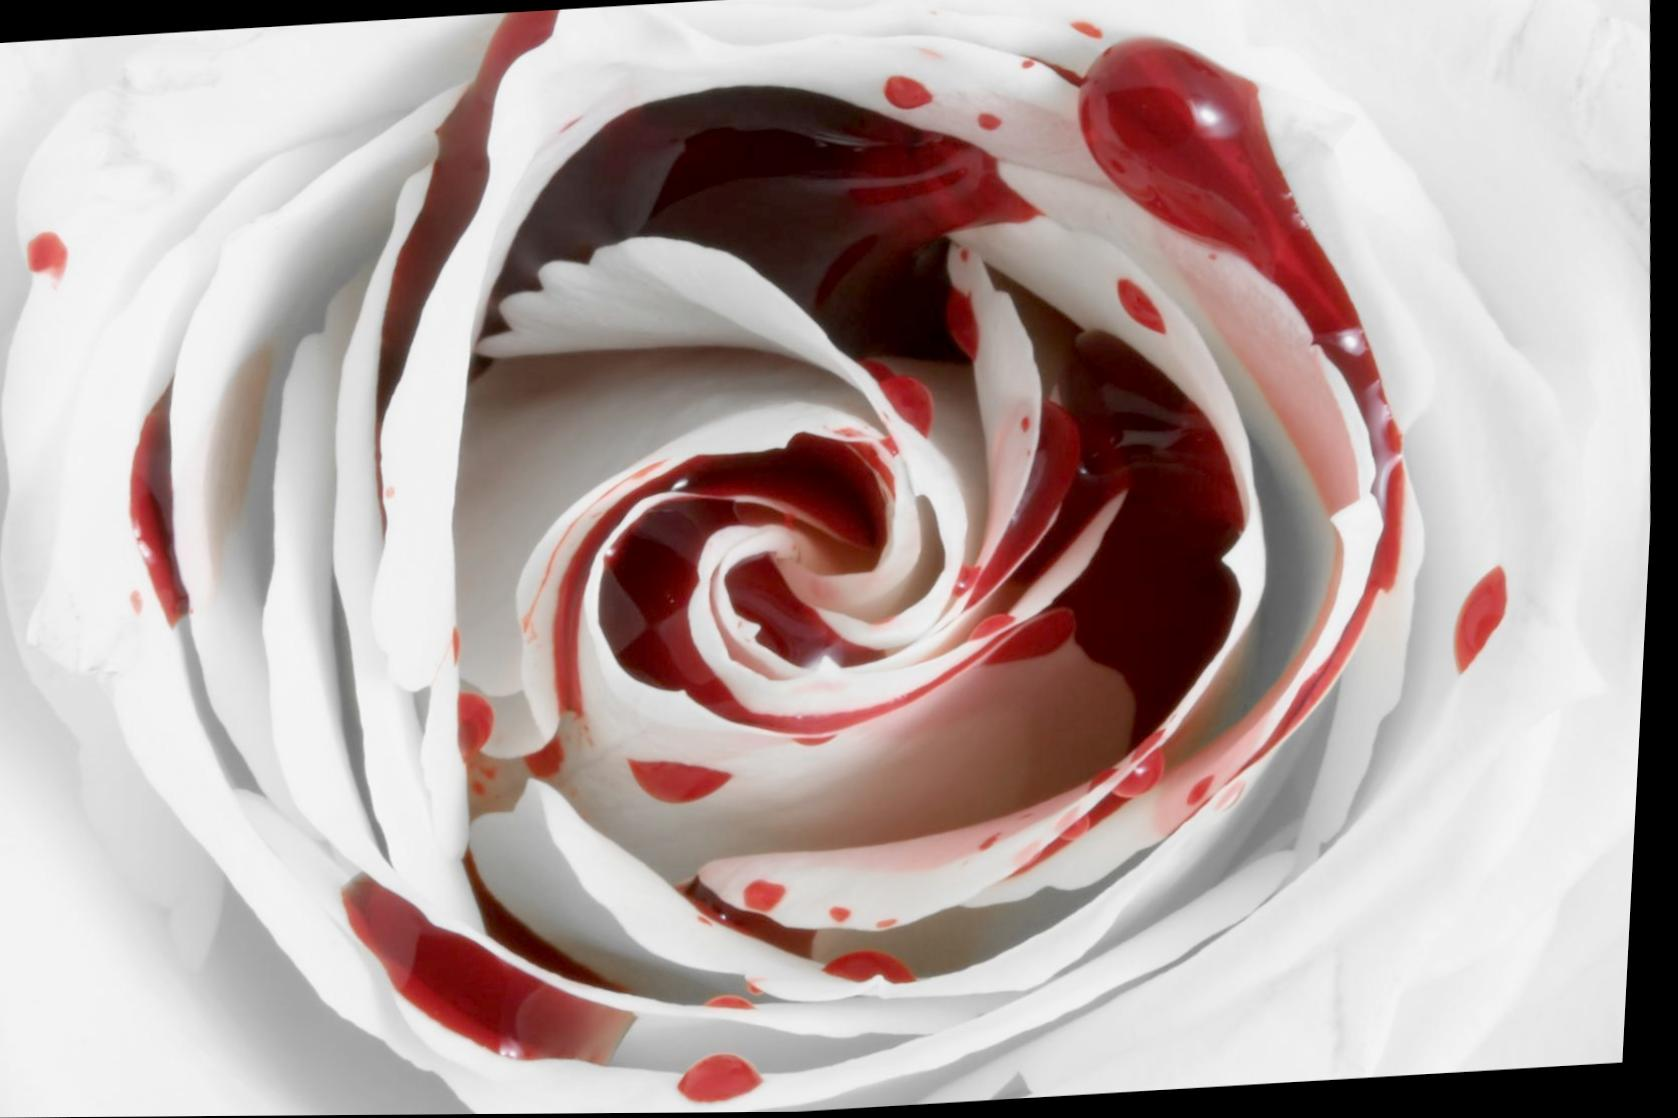Fire: (487, 86, 1039, 363), (1083, 39, 1387, 422), (1014, 333, 1253, 749), (381, 11, 558, 505), (352, 878, 645, 1068), (1250, 462, 1414, 775), (606, 498, 744, 719), (796, 618, 1026, 737), (679, 434, 901, 550), (1024, 751, 1175, 880), (560, 503, 638, 720), (132, 384, 195, 628), (685, 880, 825, 961), (1465, 569, 1517, 676), (993, 610, 1084, 669), (636, 761, 741, 806), (690, 1058, 775, 1107), (883, 377, 939, 439), (835, 953, 927, 987), (464, 694, 502, 762), (1123, 281, 1170, 334), (26, 231, 67, 284), (533, 739, 573, 782), (885, 75, 934, 109), (715, 998, 767, 1013), (981, 112, 1007, 131)
